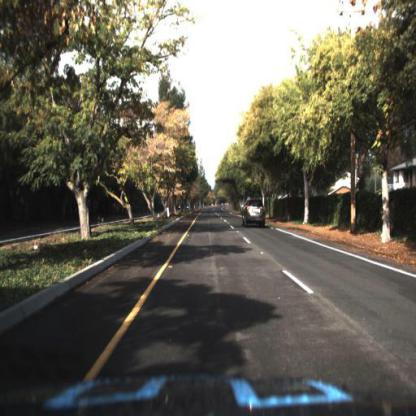car: (242, 195, 267, 227)
